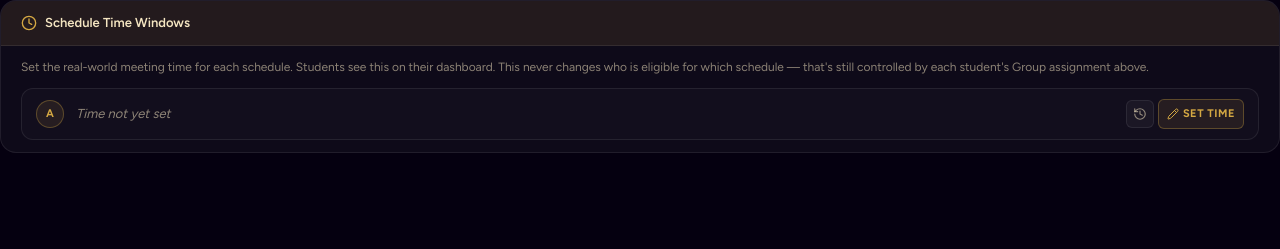
Test: editing an unset label: Set time -> fill start/end -> Save calls setScheduleTimeWindow and refreshes
This screenshot has width=1280, height=249.
Click the button with test id "schedule-time-window-edit-A".
click(1201, 114)  # box [1158,98,1244,129]
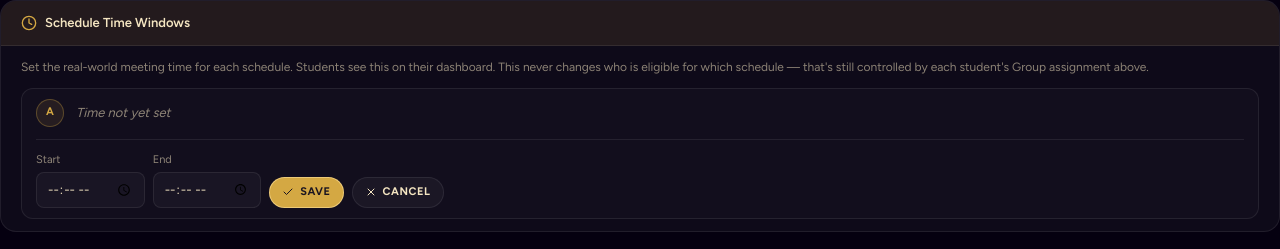
Type "07:00" into the time field with test id "schedule-time-window-start-A".
click(90, 190); type("07:00")  # box [36,172,145,208]
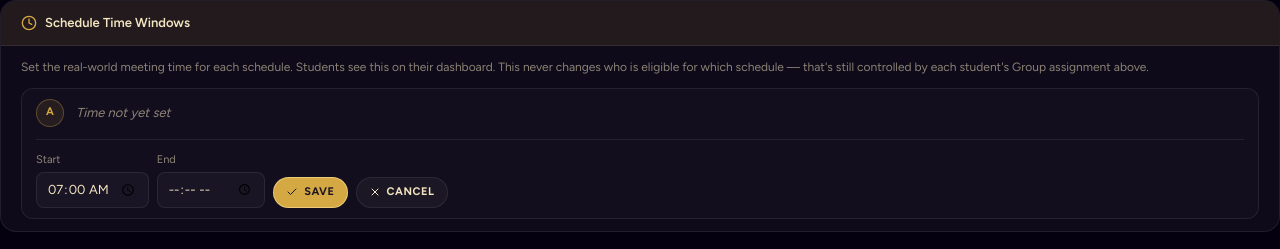
Type "08:00" into the time field with test id "schedule-time-window-end-A".
click(211, 190); type("08:00")  # box [157,172,265,208]
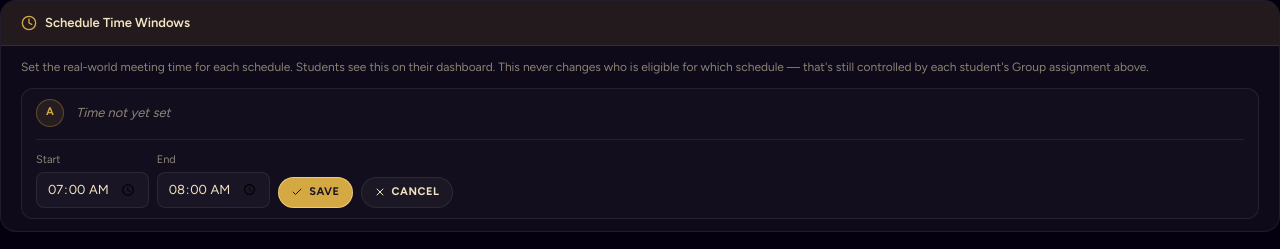
Click the button with test id "schedule-time-window-save-A".
click(315, 192)  # box [278,177,353,208]
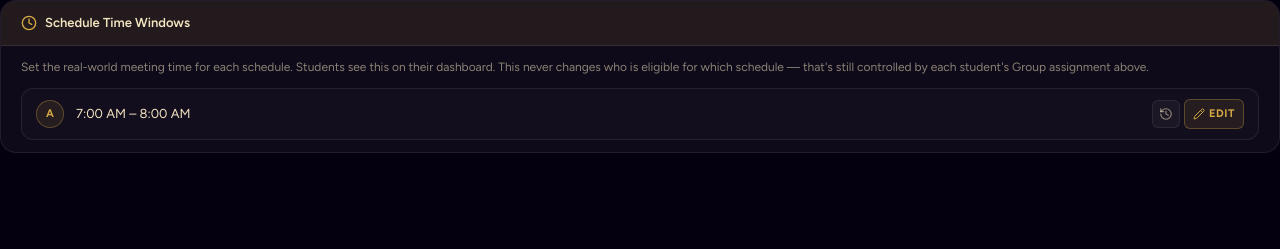
Expected: the time field with test id "schedule-time-window-start-A" is gone
